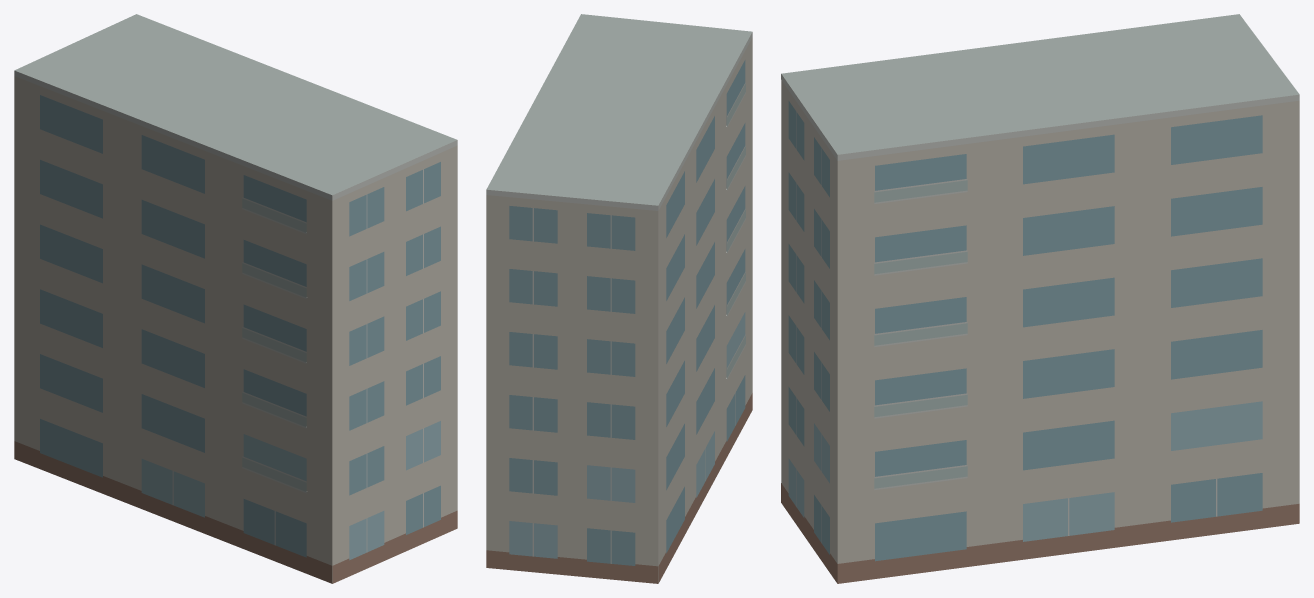
Rendered from survey-upis-33007413.glb.
3 views of the same model, side by side, from view 1: azimuth 30°, elevation 25°; view 2: azimuth 150°, elevation 25°; view 3: azimuth 270°, elevation 25° (orthographic). The views are drawn at different scales.
Visible parts, largest first — view 1: survey-upis-33007413.tmp; view 2: survey-upis-33007413.tmp; view 3: survey-upis-33007413.tmp.
Part boxes in pixels (<box>): survey-upis-33007413.tmp: <box>14,14,457,583</box>; survey-upis-33007413.tmp: <box>486,14,752,583</box>; survey-upis-33007413.tmp: <box>781,14,1299,583</box>.
Bounding box in the file's own units: 12.19 × 17.3 × 18.96.
